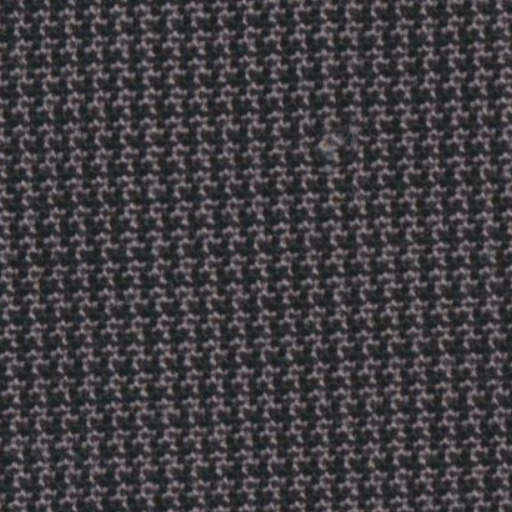PoDong: (292, 110, 372, 176)
